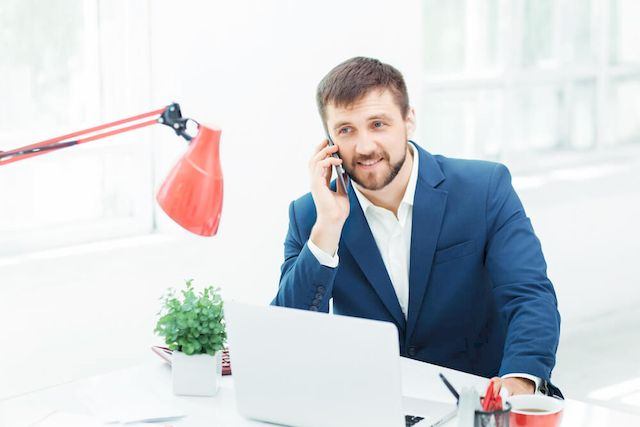phone: (315, 134, 354, 193)
talk: (307, 108, 406, 211)
